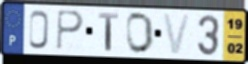0: (28, 9, 50, 50)
3: (195, 13, 220, 58)
O: (125, 11, 155, 56)
P: (56, 9, 86, 52)
T: (97, 11, 120, 52)
V: (161, 12, 193, 56)
